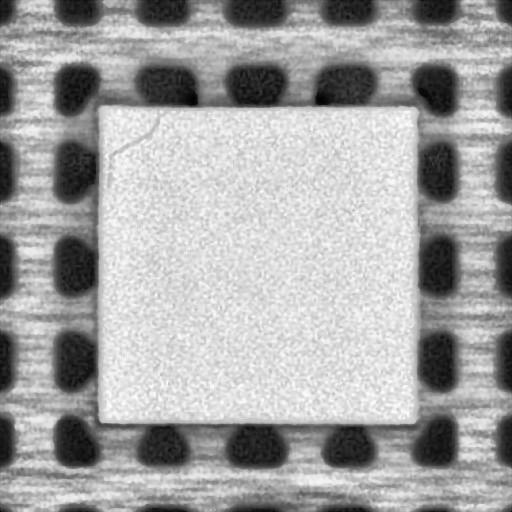DIE_CRACK: (100, 114, 163, 189)
